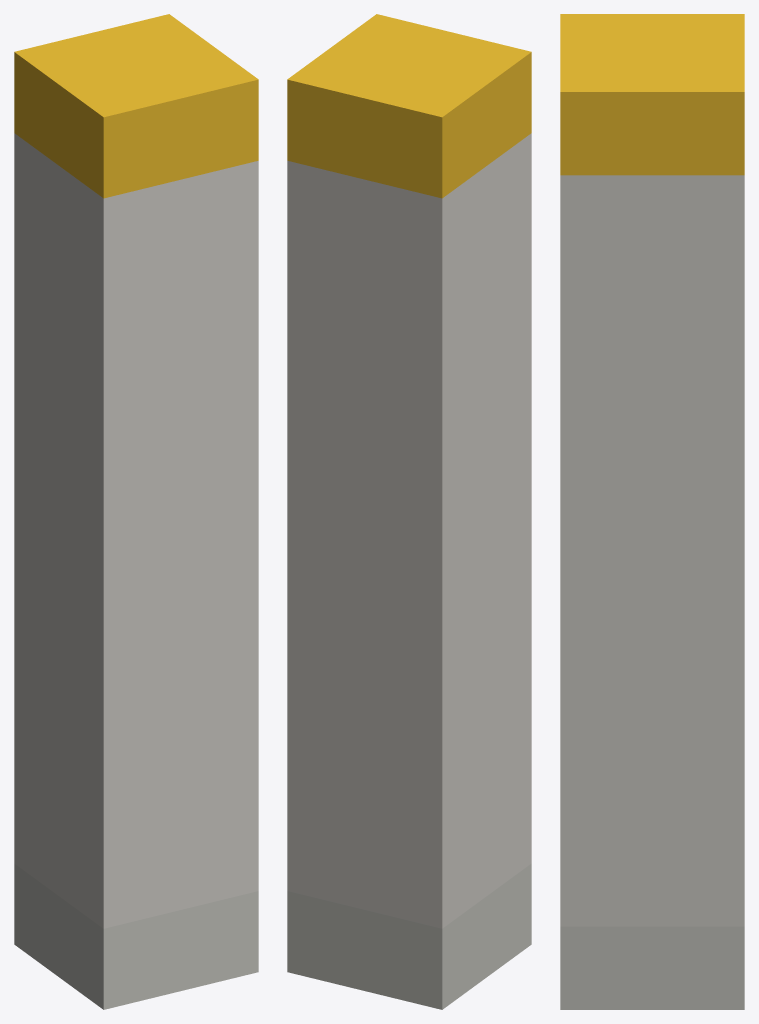
The model's file is railing_post.glb.
3 views of the same model, side by side, from view 1: azimuth 30°, elevation 25°; view 2: azimuth 150°, elevation 25°; view 3: azimuth 270°, elevation 25° (orthographic). The views are drawn at different scales.
Visible parts, largest first — view 1: post; view 2: post; view 3: post.
Boxes of the visible parts, <box> form: post: <box>14,14,258,1009</box>; post: <box>287,14,531,1009</box>; post: <box>560,14,744,1009</box>.
Bounding box in the file's own units: 0.2 × 1.1 × 0.2.
